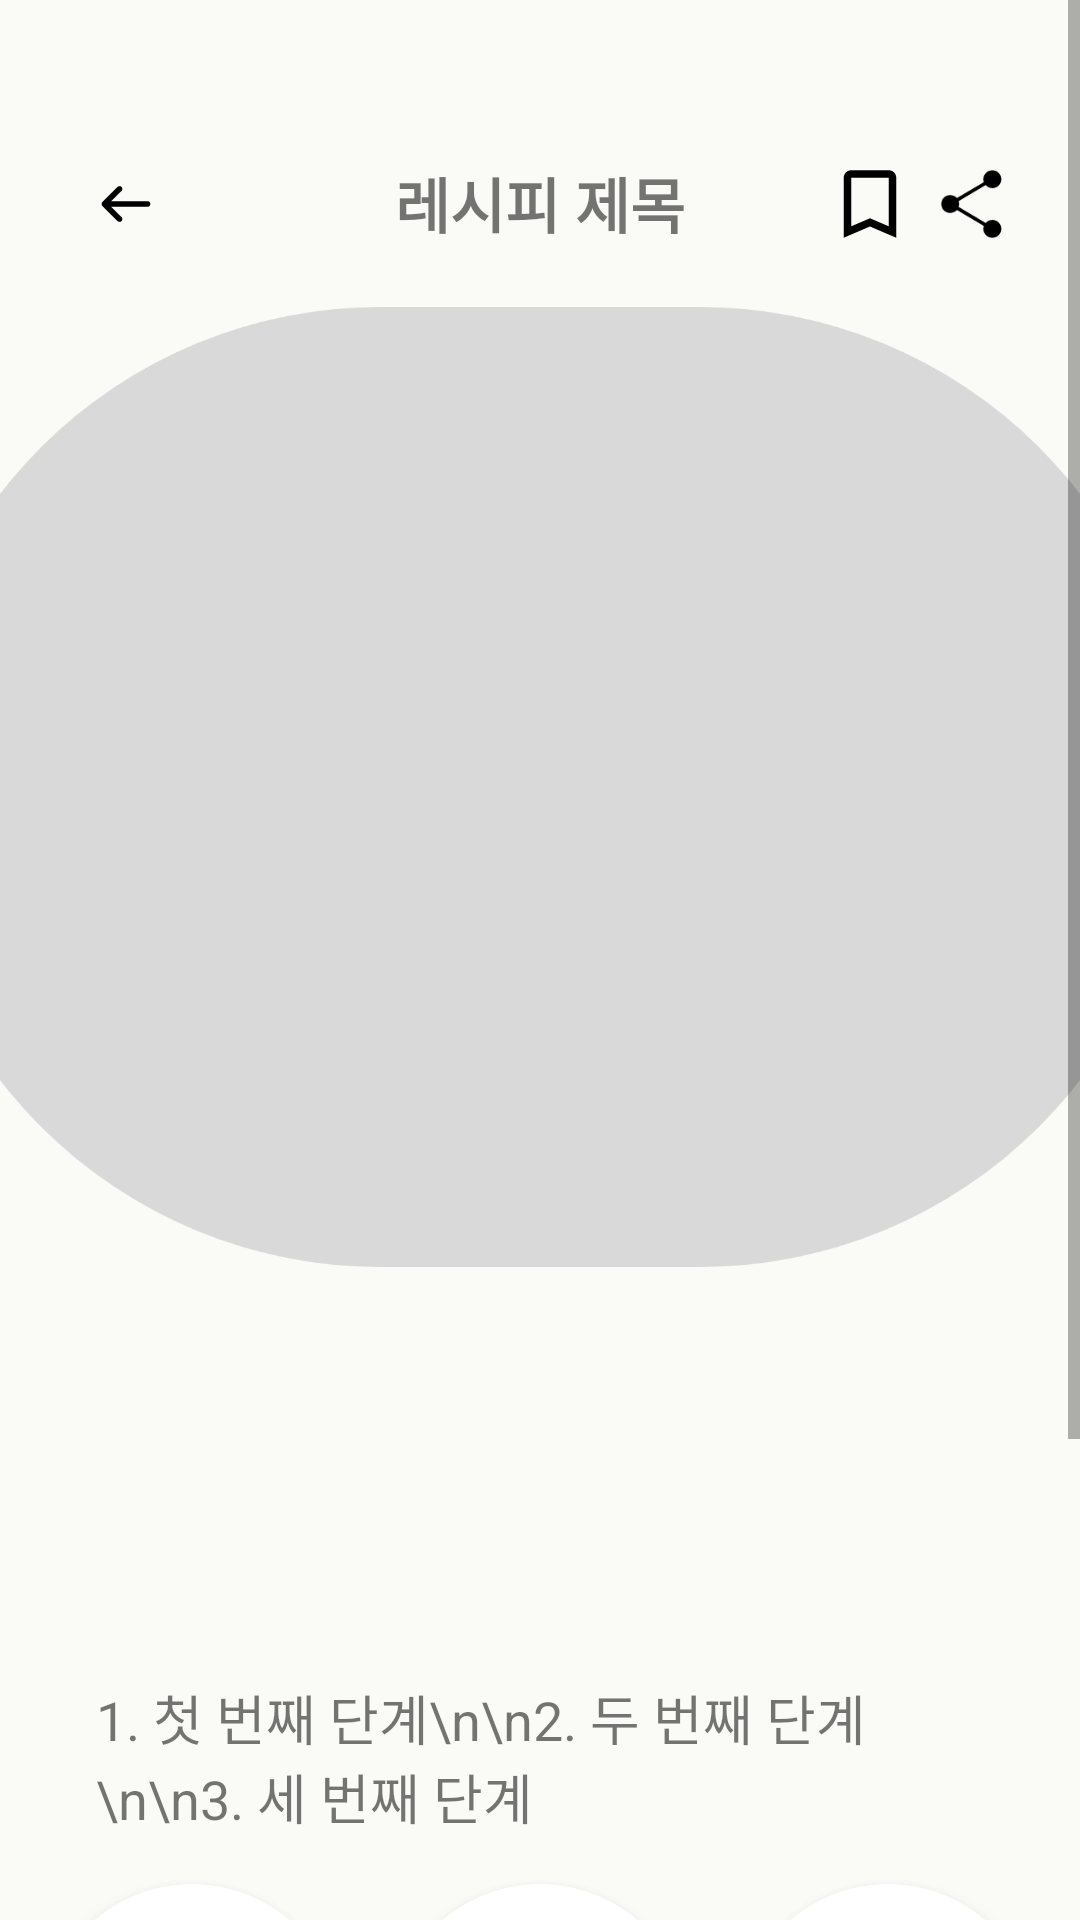

Named icons in this screenshot (1080px×1920px) and their centers, (x,y):
Back: (126,204)
bookmark: (870,204)
share link: (971,204)
